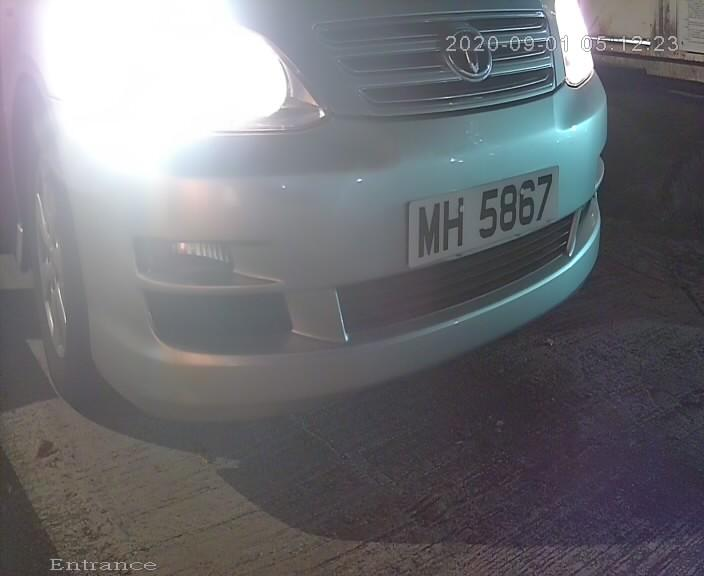License Plate: (403, 155, 557, 278)
